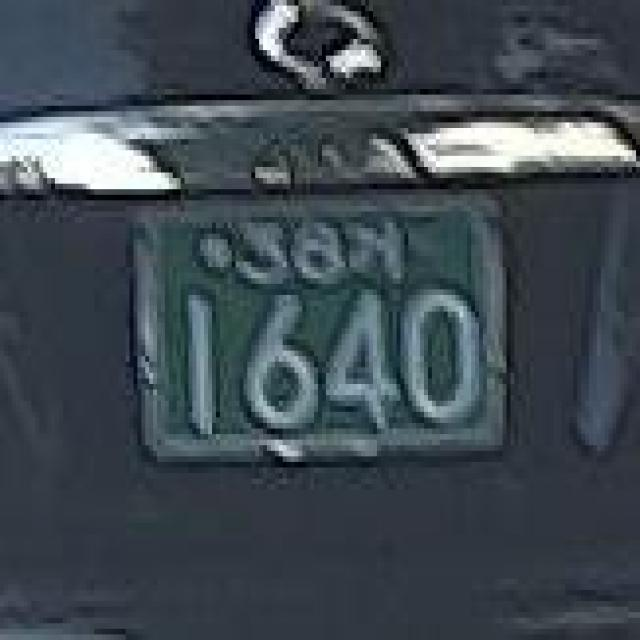illegal_plate: (119, 182, 523, 492)
